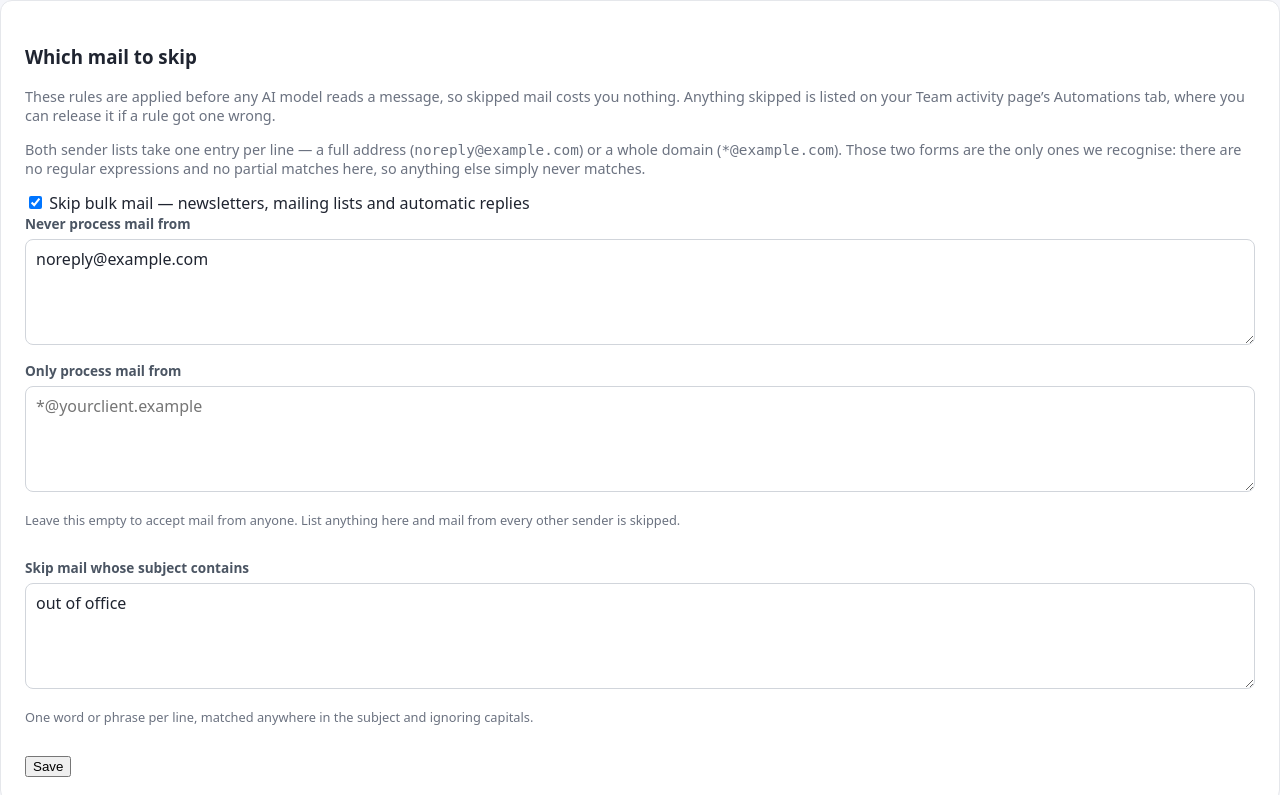
Test: EmailFilterSettings › confirms a save so the admin knows the rules are live
Click the button "Save" at (48, 767), box left=25, top=756, right=71, bottom=777
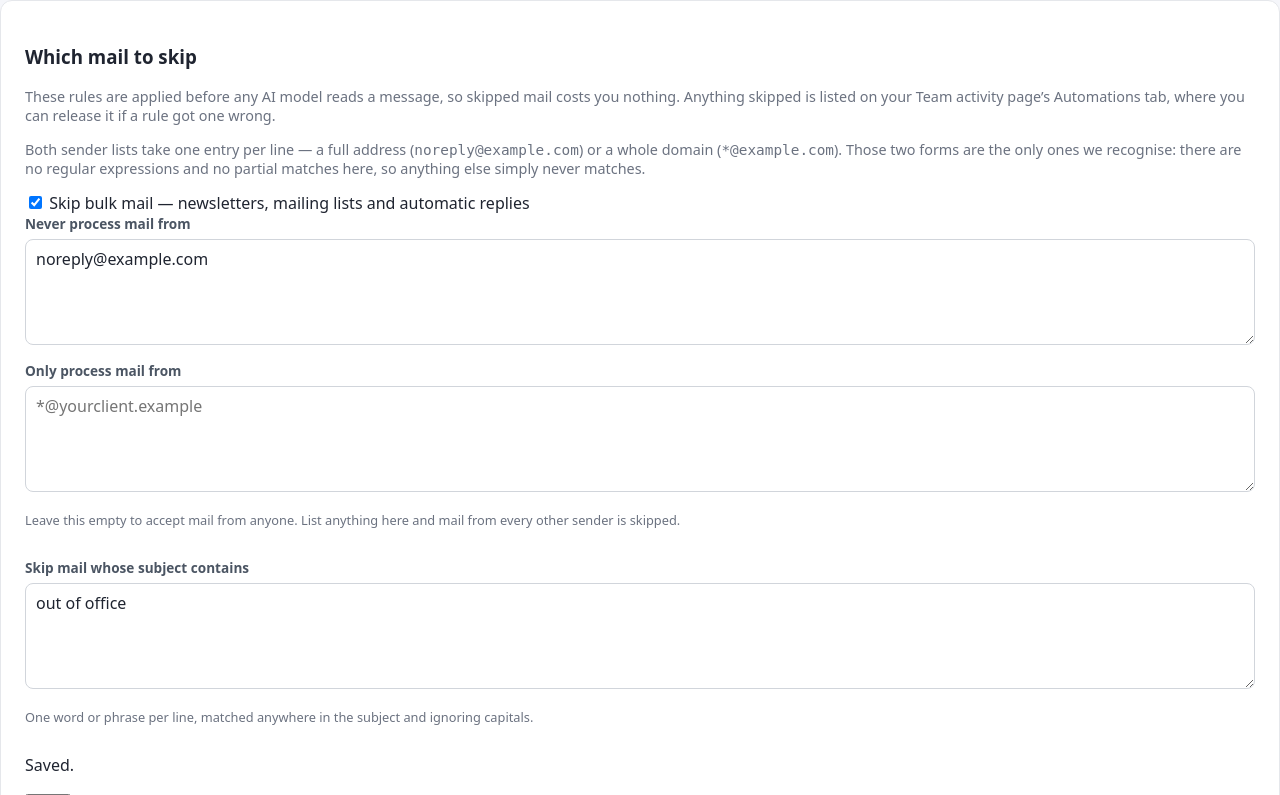
Expected: the text "Saved." is shown, left=25, top=754, right=74, bottom=776
